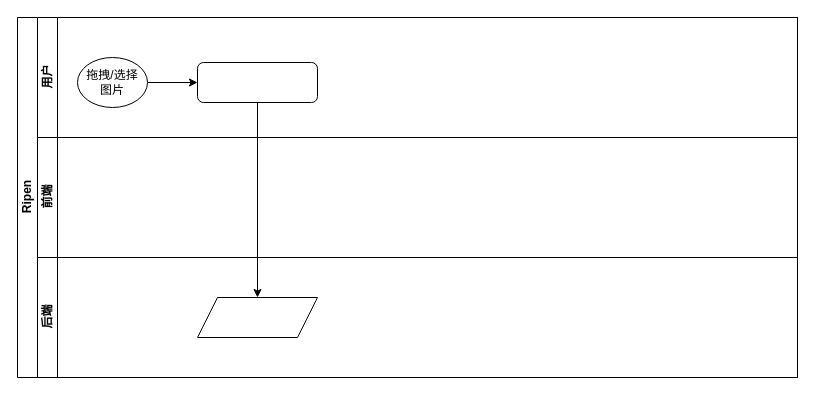
Some shapes in this 815 by 395 pixel diagram are drawn without their labels. Here are the shapes that lost their labels. From the top down, the centre of each, then its label:
At (x=257, y=82): "开始上传".
At (x=257, y=317): "service-cms".
